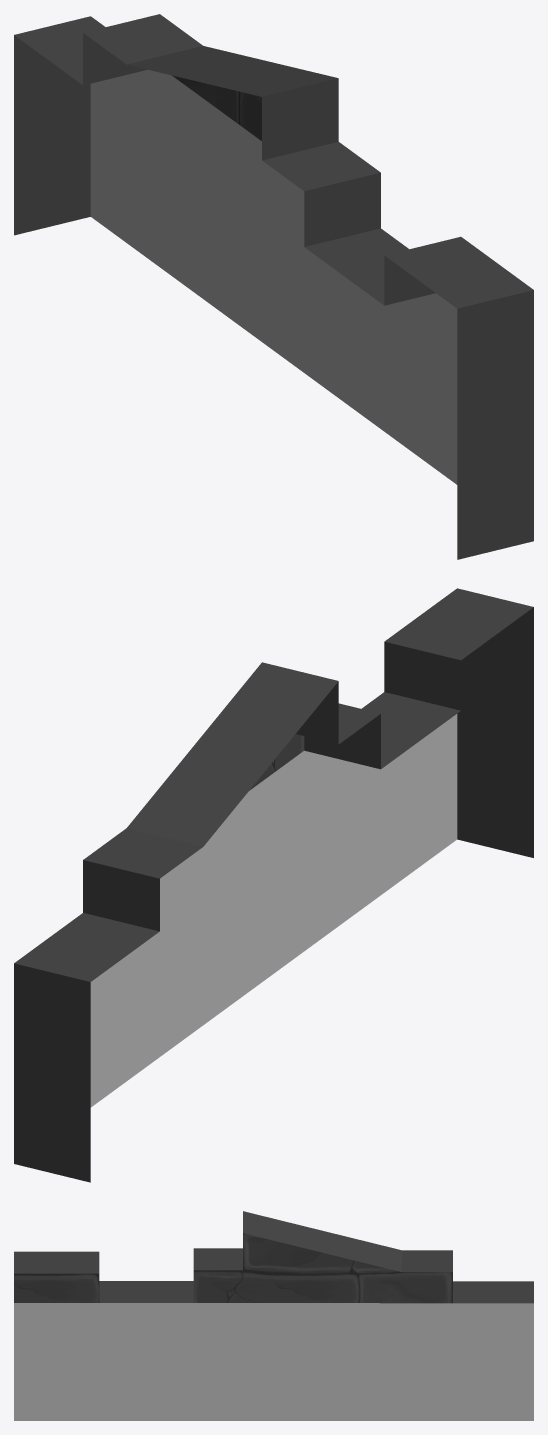
Rendered from SM_ModularKit_WallShort.fbx.
The picture shows the model from 3 angles, top to bottom: view 1: azimuth 30°, elevation 25°; view 2: azimuth 150°, elevation 25°; view 3: azimuth 270°, elevation 25°; orthographic projection. The views are drawn at different scales.
Visible parts, largest first — view 1: WallShort; view 2: WallShort; view 3: WallShort.
Boxes of the visible parts, x1=… form: WallShort: x1=14, y1=14, x2=533, y2=559; WallShort: x1=14, y1=588, x2=533, y2=1182; WallShort: x1=14, y1=1211, x2=533, y2=1420.
Bounding box in the file's own units: 40 × 159 × 400.
